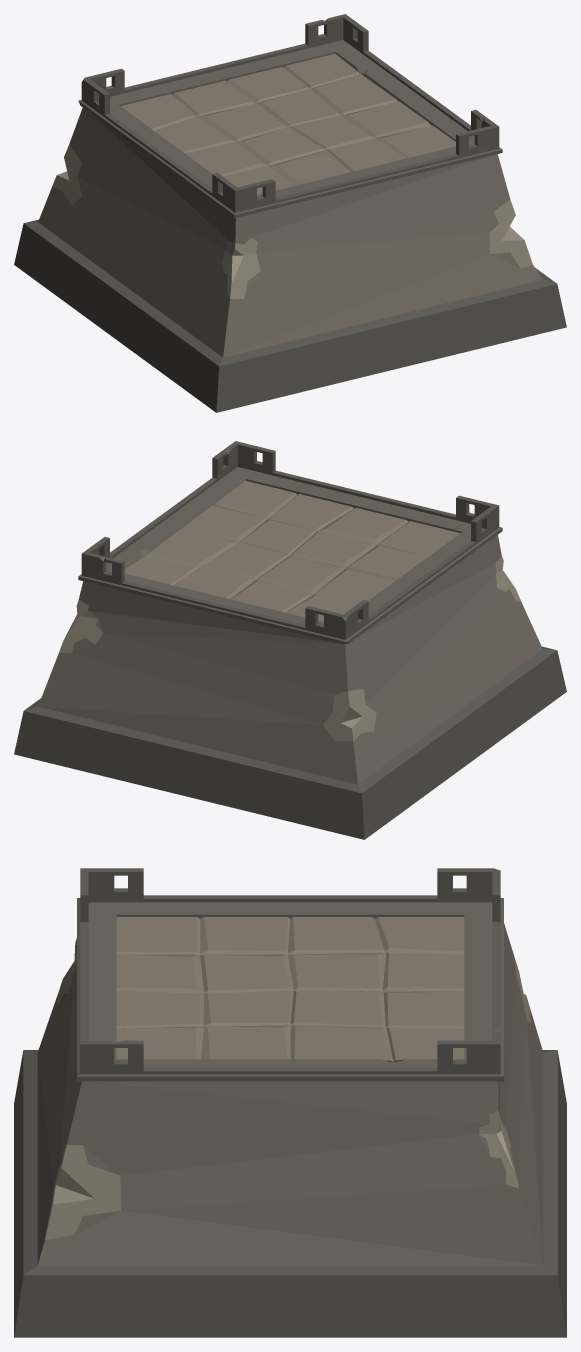
Rendered from SM_Bld_Fort_Base_02.fbx.
The picture shows the model from 3 angles, top to bottom: view 1: azimuth 30°, elevation 25°; view 2: azimuth 150°, elevation 25°; view 3: azimuth 270°, elevation 25°; orthographic projection. The views are drawn at different scales.
Visible parts, largest first — view 1: SM_Bld_Fort_Base_02; view 2: SM_Bld_Fort_Base_02; view 3: SM_Bld_Fort_Base_02.
Boxes of the visible parts, left/top/right/bottom form: SM_Bld_Fort_Base_02: left=14, top=14, right=566, bottom=412; SM_Bld_Fort_Base_02: left=14, top=441, right=566, bottom=839; SM_Bld_Fort_Base_02: left=14, top=868, right=566, bottom=1337.
Size of the model in its own units: 21.75 by 11.48 by 21.75.
